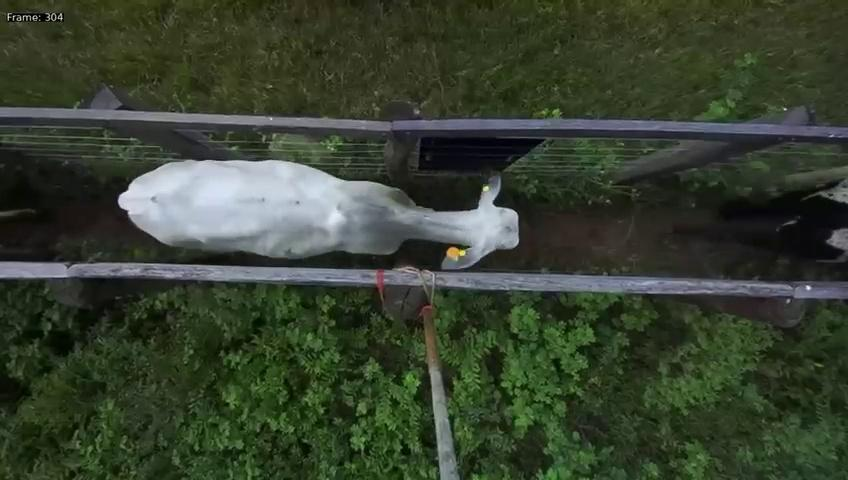cattle: (115, 129, 521, 270)
